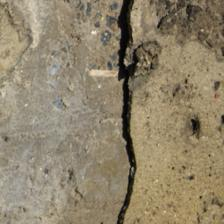Crack: (56, 2, 89, 222)
